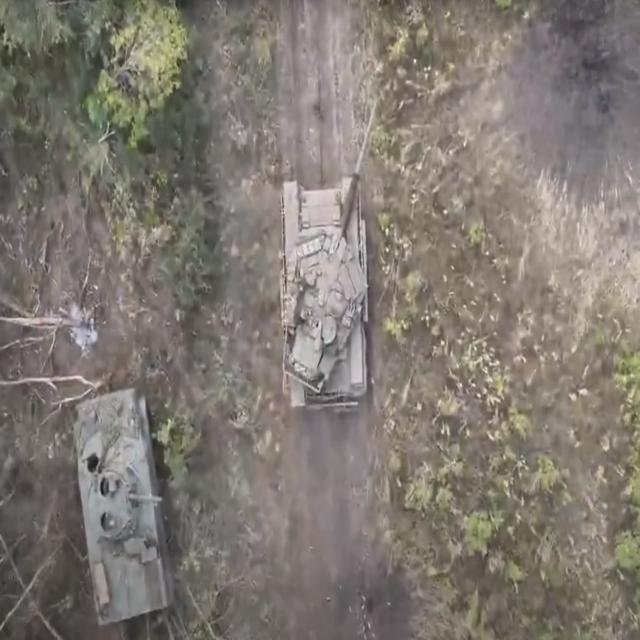AIFV: (72, 387, 175, 629)
MBT: (280, 104, 380, 415)
